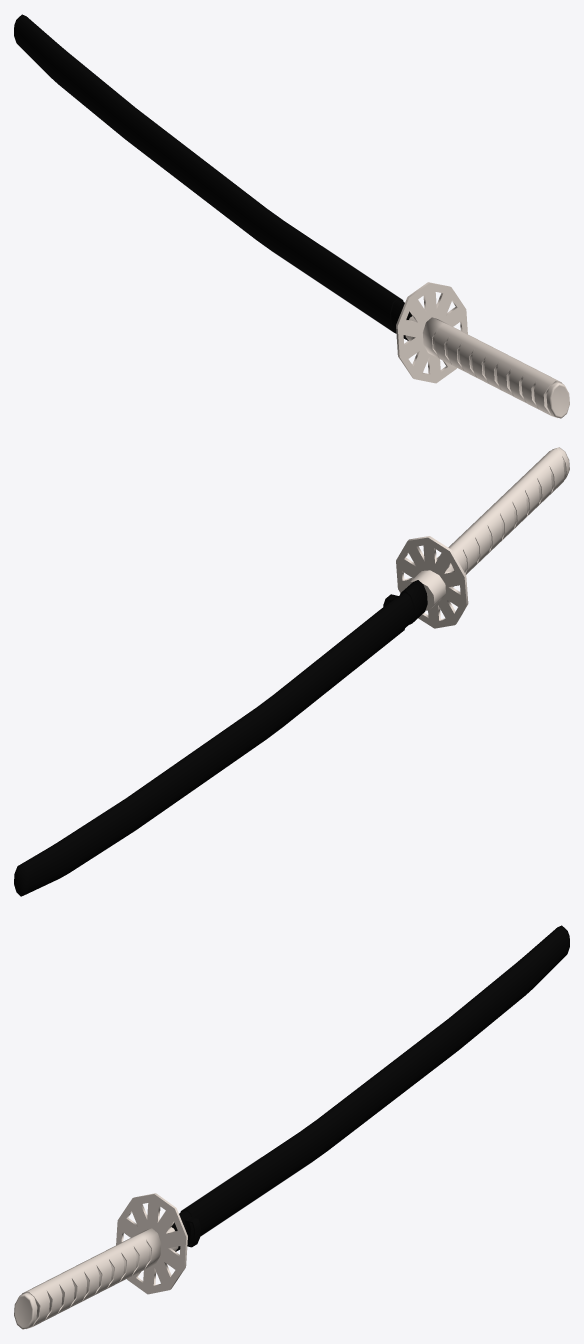
Rendered from katanachelfbx.fbx.
The picture shows the model from 3 angles, top to bottom: view 1: azimuth 30°, elevation 25°; view 2: azimuth 150°, elevation 25°; view 3: azimuth 330°, elevation 25°; orthographic projection.
Parts seen in each view (by area): view 1: chehol, katana; view 2: chehol, katana; view 3: chehol, katana.
Part boxes in pixels (x1,y1,x2,y2): chehol: (14,14,412,340); katana: (396,282,569,418); chehol: (14,580,427,896); katana: (396,447,569,628); chehol: (171,925,569,1251); katana: (14,1193,187,1329).
Bounding box in the file's own units: 485 × 650 × 6643.
